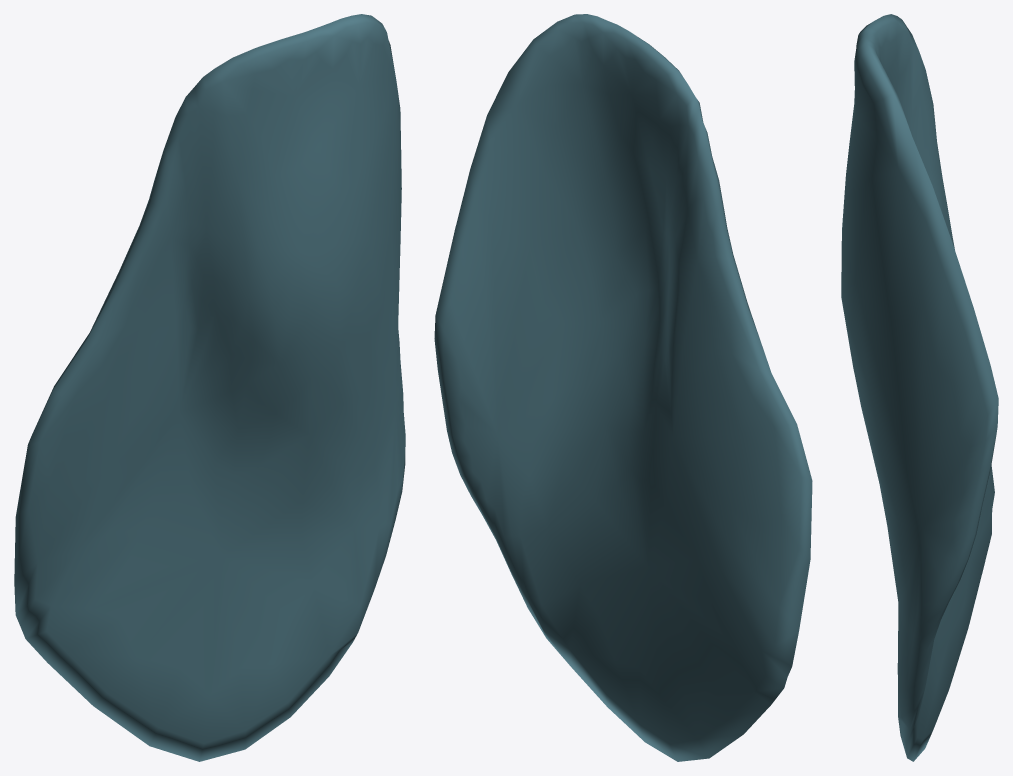
The model's file is Brachialis_muscle-Ulnar_insertion.l_Generated_Mesh_From_X3D.608.glb.
The picture shows the model from 3 angles, left to right: view 1: azimuth 30°, elevation 25°; view 2: azimuth 150°, elevation 25°; view 3: azimuth 270°, elevation 25°; orthographic projection. The views are drawn at different scales.
Visible parts, largest first — view 1: Brachialis_muscle-Ulnar_insertion.l_Generated_Mesh_From_X3D.; view 2: Brachialis_muscle-Ulnar_insertion.l_Generated_Mesh_From_X3D.; view 3: Brachialis_muscle-Ulnar_insertion.l_Generated_Mesh_From_X3D..
Boxes of the visible parts, x1,y1,x2,y2 form: Brachialis_muscle-Ulnar_insertion.l_Generated_Mesh_From_X3D.: [14, 14, 405, 761]; Brachialis_muscle-Ulnar_insertion.l_Generated_Mesh_From_X3D.: [434, 14, 812, 761]; Brachialis_muscle-Ulnar_insertion.l_Generated_Mesh_From_X3D.: [841, 14, 998, 761].
Bounding box in the file's own units: 0.00919 × 0.0168 × 0.00312.
